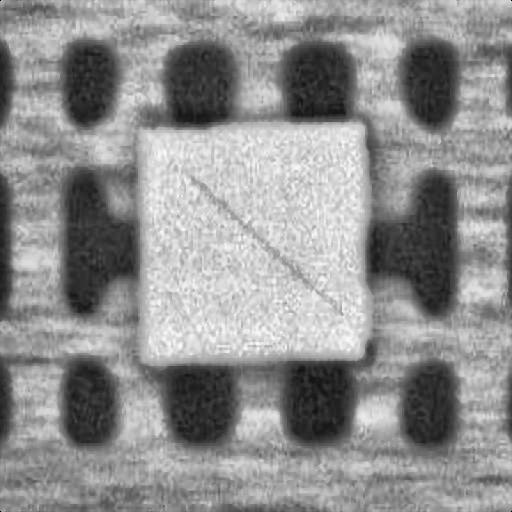DIE_CRACK: (282, 115, 510, 207)
